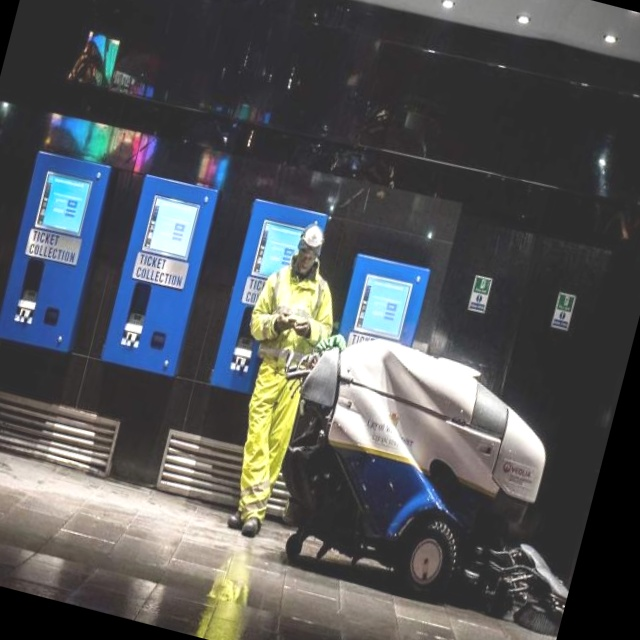Con_Chaleco: (255, 263, 335, 372)
